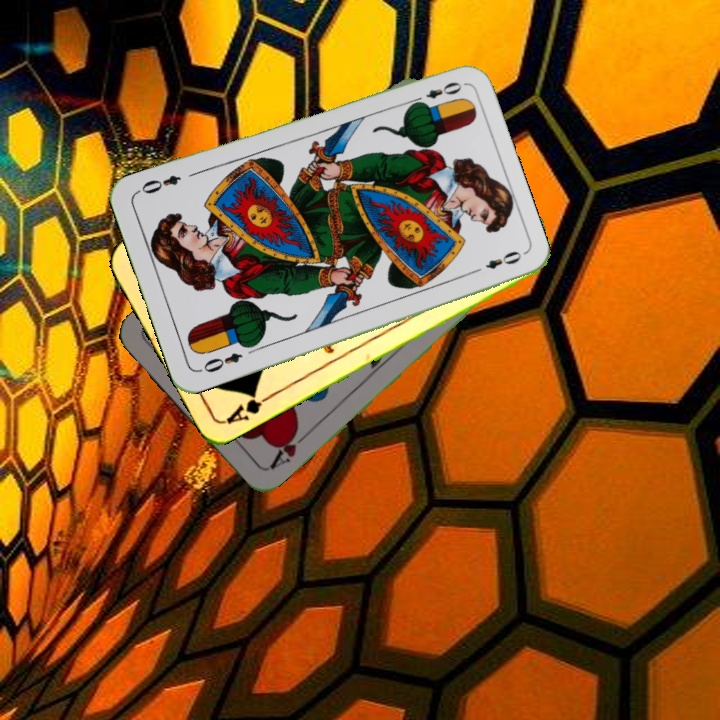EO: (408, 78, 465, 107), (195, 348, 245, 376)
GA: (221, 387, 276, 428)
HA: (265, 423, 312, 472)
